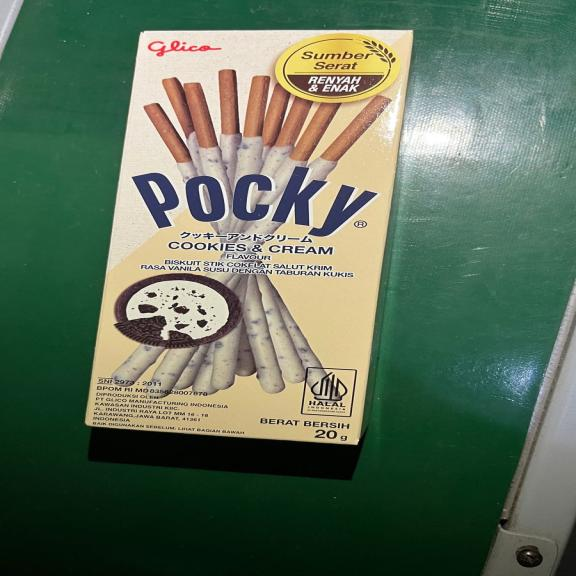Kertas: (81, 26, 408, 452)
